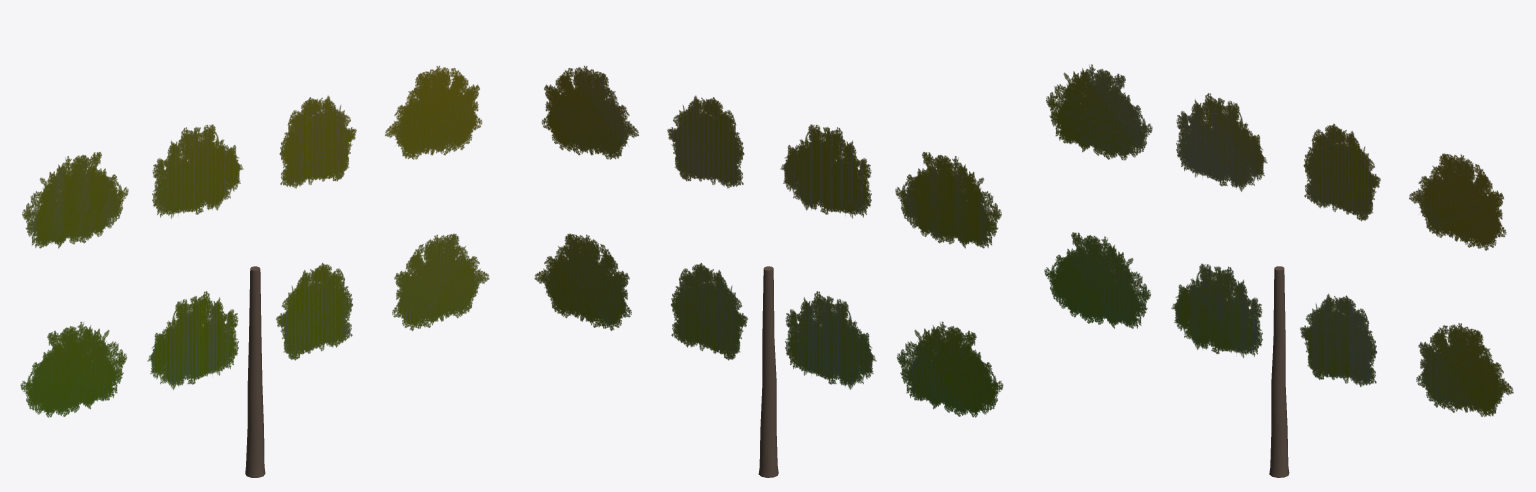
Rendered from tree_small_broad_canopy_lod2_impostor.glb.
3 views of the same model, side by side, from view 1: azimuth 30°, elevation 25°; view 2: azimuth 150°, elevation 25°; view 3: azimuth 330°, elevation 25° (orthographic).
Parts seen in each view (by area): view 1: TreeHLOD2_Impostor, Tree_Trunk_Stylized; view 2: TreeHLOD2_Impostor, Tree_Trunk_Stylized; view 3: TreeHLOD2_Impostor, Tree_Trunk_Stylized.
Boxes of the visible parts, <box> form: TreeHLOD2_Impostor: <box>20,65,489,417</box>; Tree_Trunk_Stylized: <box>245,266,265,477</box>; TreeHLOD2_Impostor: <box>534,65,1003,417</box>; Tree_Trunk_Stylized: <box>758,266,778,477</box>; TreeHLOD2_Impostor: <box>1044,64,1513,416</box>; Tree_Trunk_Stylized: <box>1269,266,1289,477</box>.
Bounding box in the file's own units: 8.01 × 6.34 × 0.2764.
2 materials, 1 textured.
